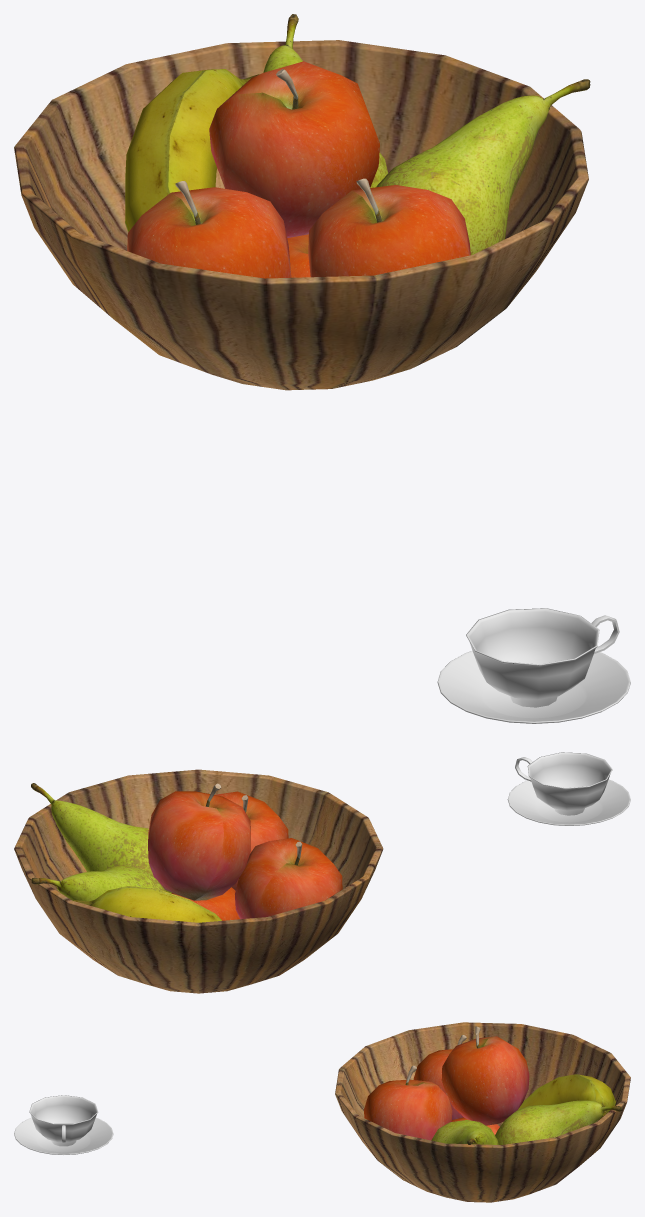
The model's file is shuiguo.fbx.
3 views of the same model, one above another, from view 1: azimuth 30°, elevation 25°; view 2: azimuth 150°, elevation 25°; view 3: azimuth 270°, elevation 25° (orthographic). The views are drawn at different scales.
Visible parts, largest first — view 1: mupen, shuiguo11, shuiguo10, shuiguo9, shuiguo8, xiangjiao5, beizi2, beizi3, shuiguo7; view 2: mupen, shuiguo11, shuiguo8, shuiguo10, beizi2, xiangjiao5, beizi3, shuiguo7, shuiguo9, shuiguo6; view 3: mupen, shuiguo11, shuiguo9, shuiguo7, beizi2, xiangjiao5, beizi3, shuiguo10, shuiguo8.
Part boxes in pixels (x1=…): mupen: x1=14, y1=40, x2=588, y2=390; shuiguo11: x1=209, y1=61, x2=379, y2=237; shuiguo10: x1=376, y1=79, x2=590, y2=255; shuiguo9: x1=308, y1=178, x2=470, y2=277; shuiguo8: x1=127, y1=181, x2=291, y2=278; xiangjiao5: x1=125, y1=69, x2=259, y2=232; beizi2: x1=466, y1=608, x2=599, y2=707; beizi3: x1=437, y1=651, x2=630, y2=723; shuiguo7: x1=263, y1=14, x2=388, y2=187; mupen: x1=14, y1=769, x2=383, y2=993; shuiguo11: x1=148, y1=783, x2=250, y2=900; shuiguo8: x1=235, y1=838, x2=342, y2=919; shuiguo10: x1=31, y1=783, x2=171, y2=893; beizi2: x1=527, y1=752, x2=612, y2=815; xiangjiao5: x1=73, y1=886, x2=221, y2=922; beizi3: x1=507, y1=779, x2=630, y2=825; shuiguo7: x1=31, y1=865, x2=165, y2=901; shuiguo9: x1=215, y1=791, x2=288, y2=890; shuiguo6: x1=171, y1=887, x2=239, y2=920; mupen: x1=335, y1=1022, x2=630, y2=1202; shuiguo11: x1=441, y1=1026, x2=529, y2=1125; shuiguo9: x1=364, y1=1065, x2=452, y2=1140; shuiguo7: x1=495, y1=1100, x2=622, y2=1144; beizi2: x1=29, y1=1095, x2=98, y2=1146; xiangjiao5: x1=518, y1=1074, x2=615, y2=1120; beizi3: x1=14, y1=1117, x2=113, y2=1154; shuiguo10: x1=431, y1=1120, x2=498, y2=1144; shuiguo8: x1=413, y1=1035, x2=466, y2=1119.
Size of the model in its own units: 37.12 by 20.03 by 72.13.
